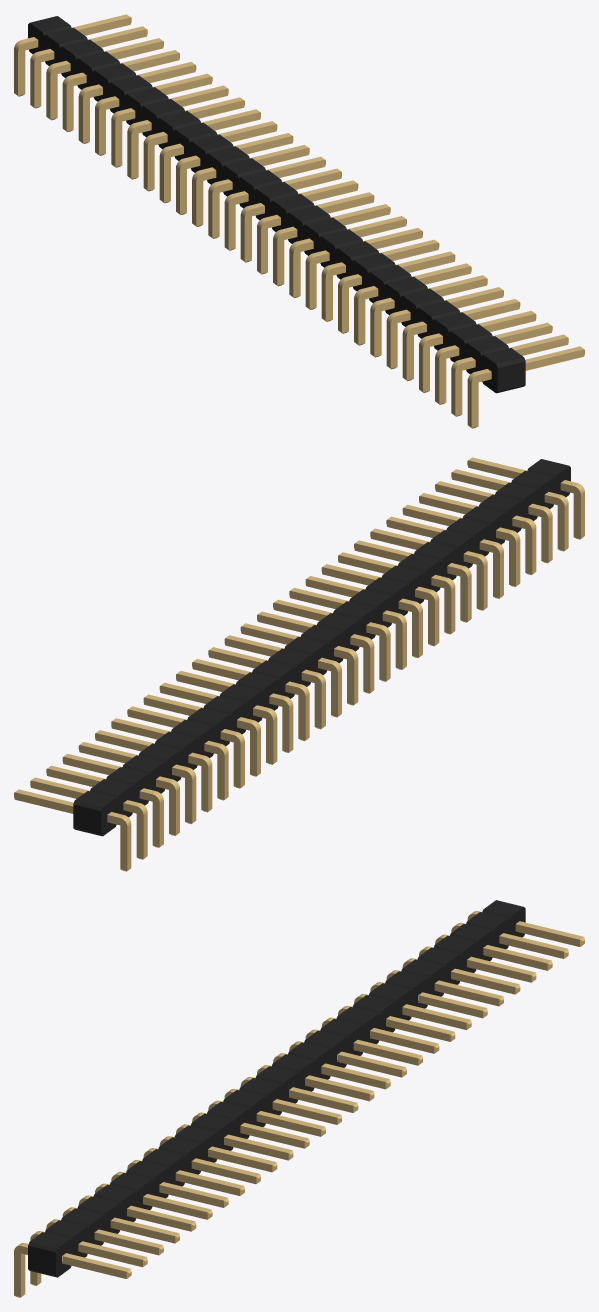
Rendered from kc-pinheader_1x29_p2.54mm_horizontal.glb.
3 renders of one model, top to bottom at view 1: azimuth 30°, elevation 25°; view 2: azimuth 150°, elevation 25°; view 3: azimuth 330°, elevation 25°, orthographic.
Parts seen in each view (by area): view 1: 0.75_0.5_0.25_0.9, 0_0_0_0; view 2: 0.75_0.5_0.25_0.9, 0_0_0_0; view 3: 0.75_0.5_0.25_0.9, 0_0_0_0.
Part boxes in pixels (x1,y1,x2,y2): 0.75_0.5_0.25_0.9: [14, 14, 584, 428]; 0_0_0_0: [28, 16, 525, 393]; 0.75_0.5_0.25_0.9: [14, 457, 584, 871]; 0_0_0_0: [73, 459, 570, 836]; 0.75_0.5_0.25_0.9: [14, 911, 584, 1297]; 0_0_0_0: [28, 900, 525, 1277].
Bounding box in the file's own units: 1.04 × 0.5538 × 7.37.
